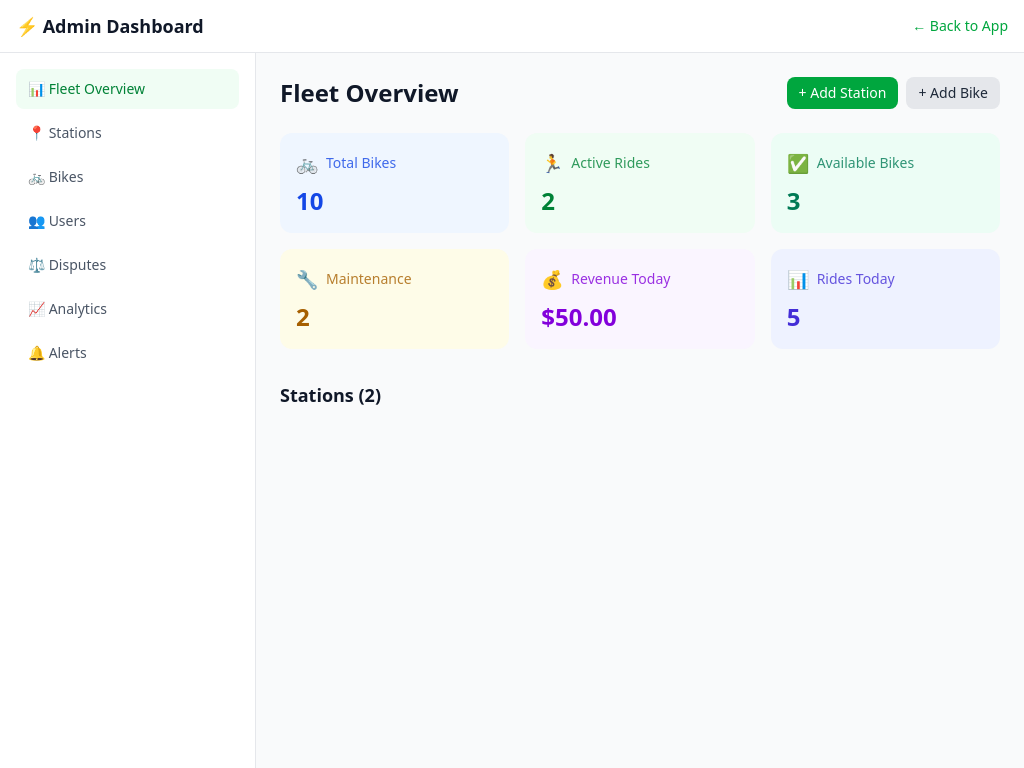
FleetOverview › navigates to stations page via Add Station button
The image size is (1024, 768).
Click the button "+ Add Station": (842, 93) [787,77,898,109]
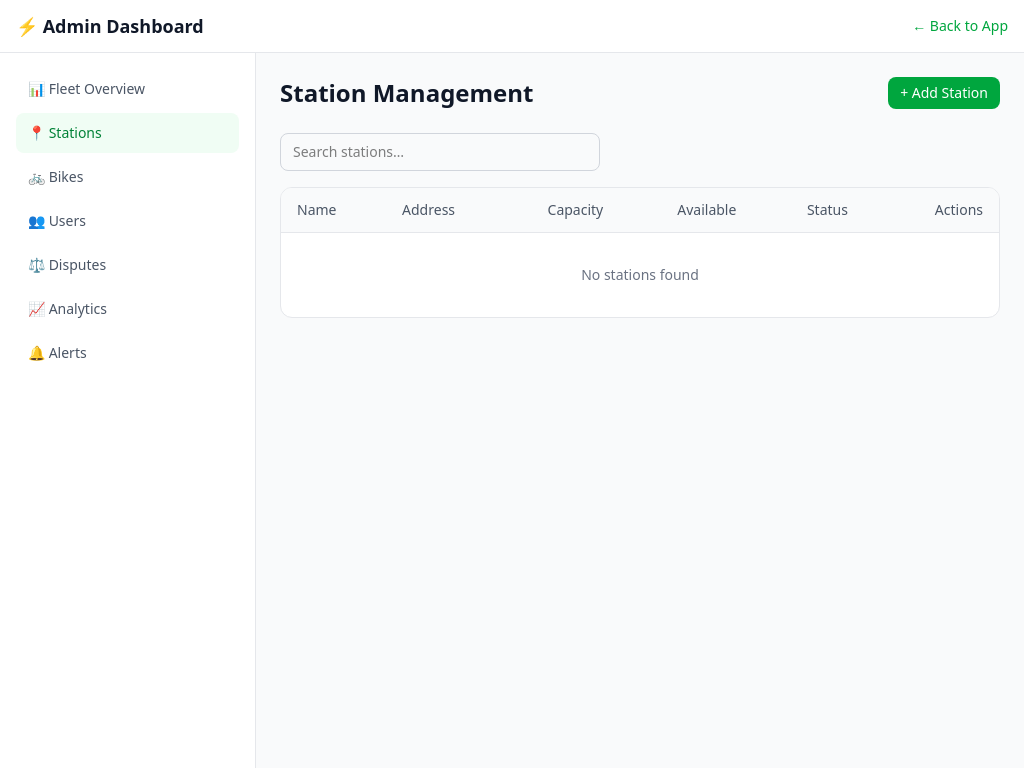
Check: the heading "Station Management" is shown, box [280,77,534,109]
